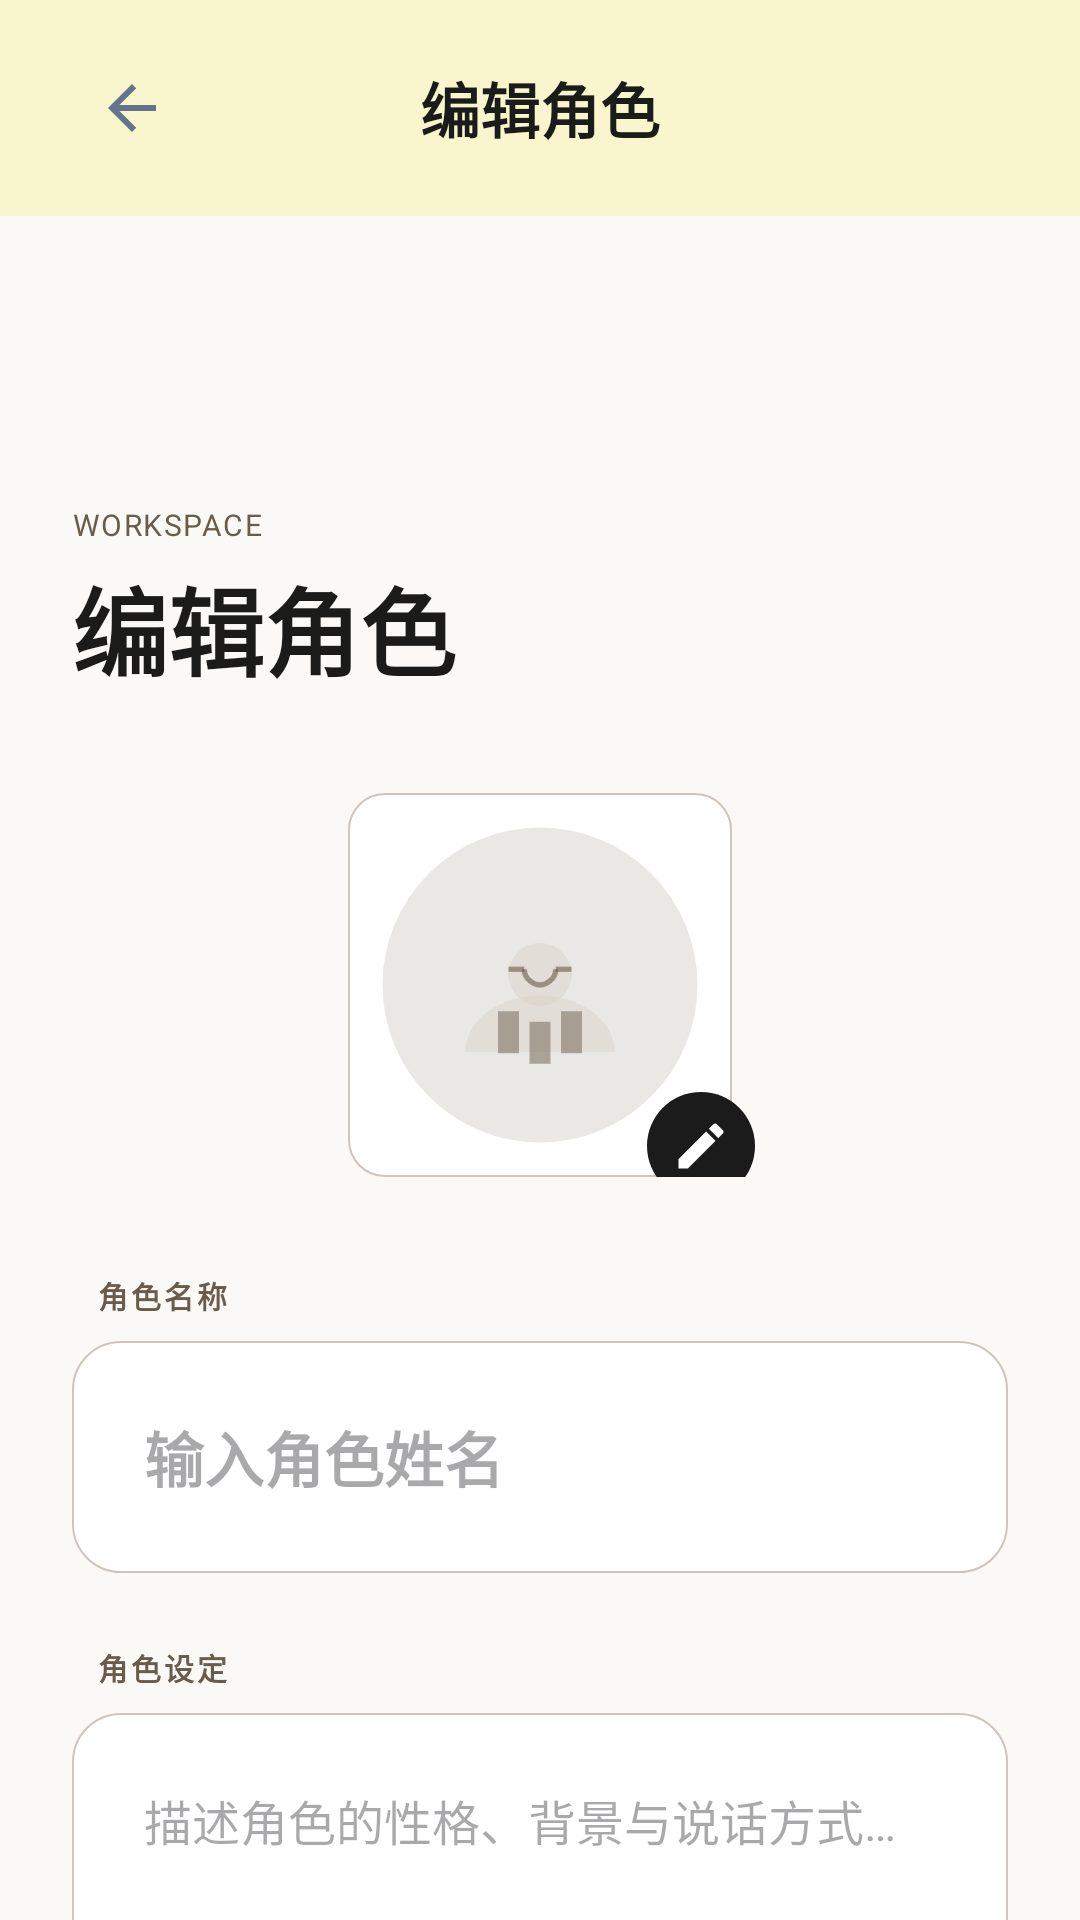

Icon bounding boxes for this 1080w x 1920h phone screenshot, format (x1, y1, x2, y2):
返回: (108, 84, 156, 132)
